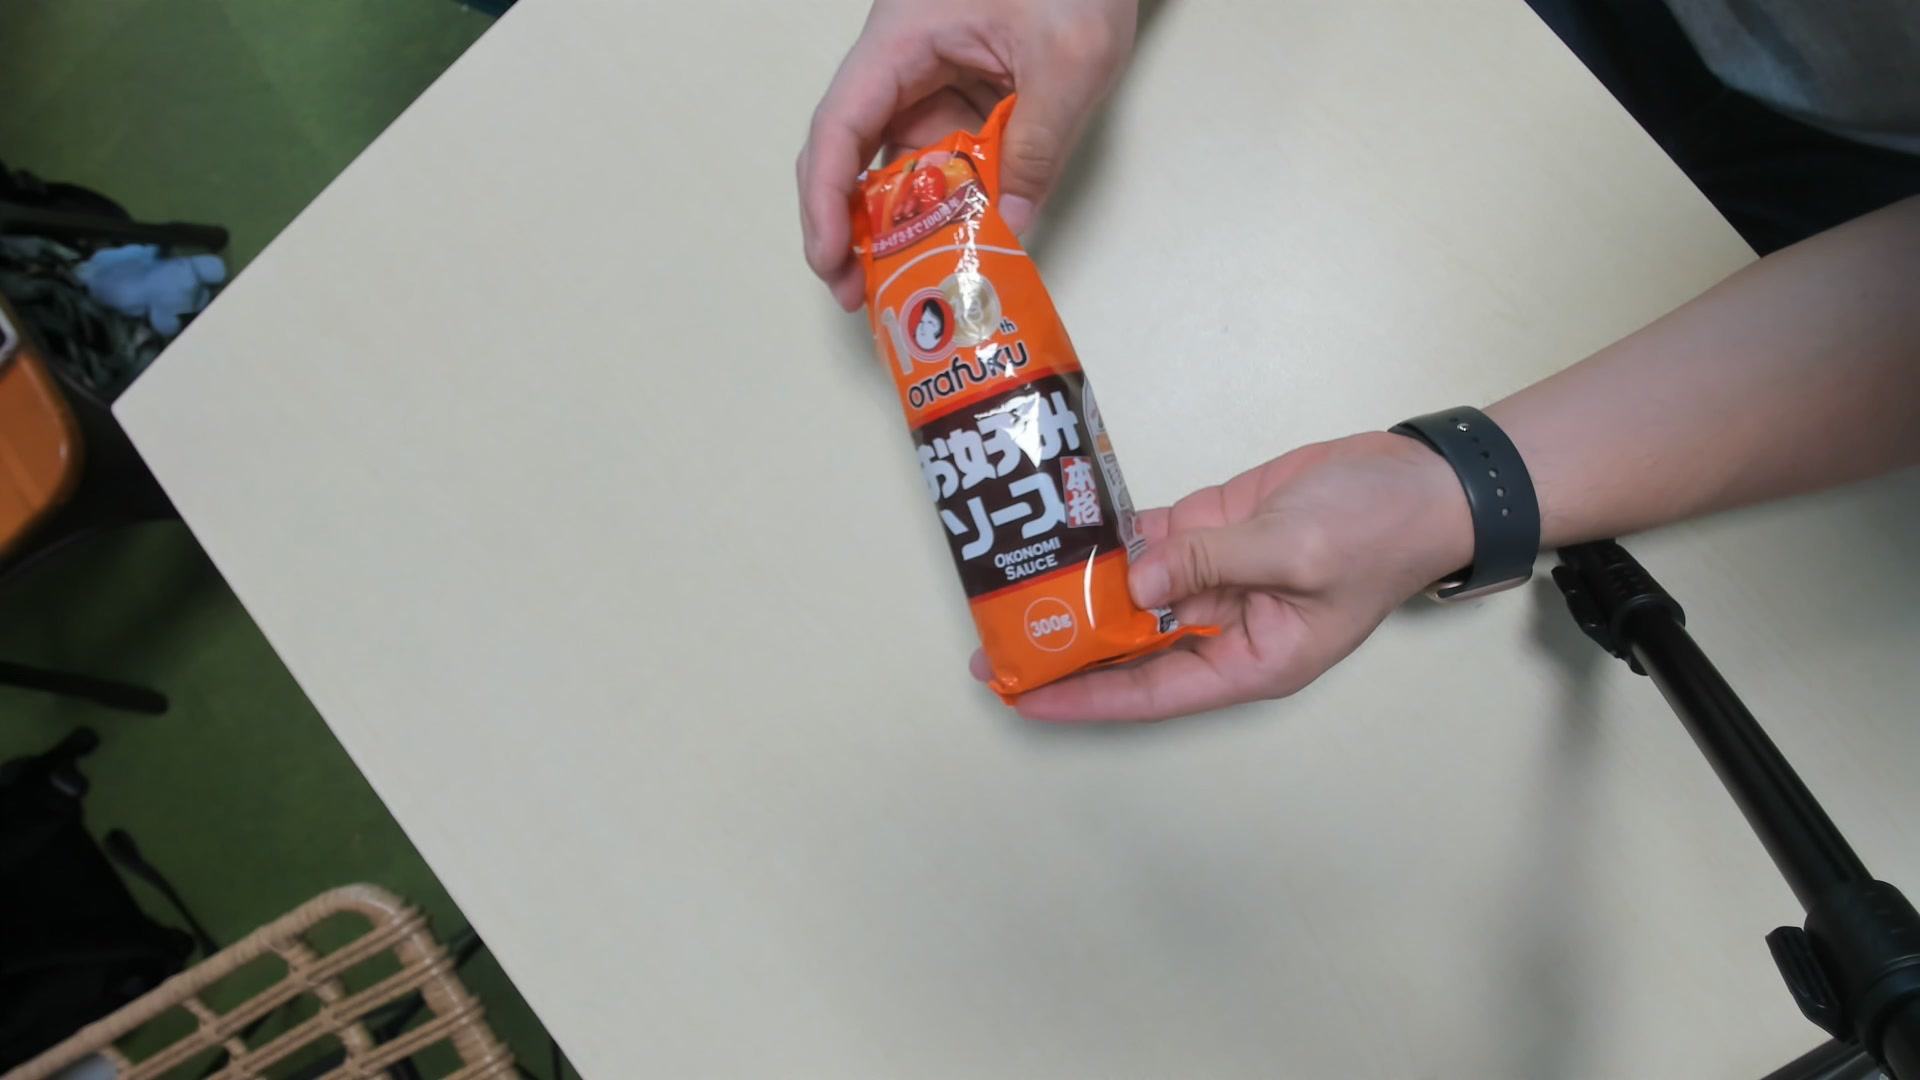OtherSauceDressing_300-399g_NonHalal_NonHealthy: (849, 100, 1179, 705)
